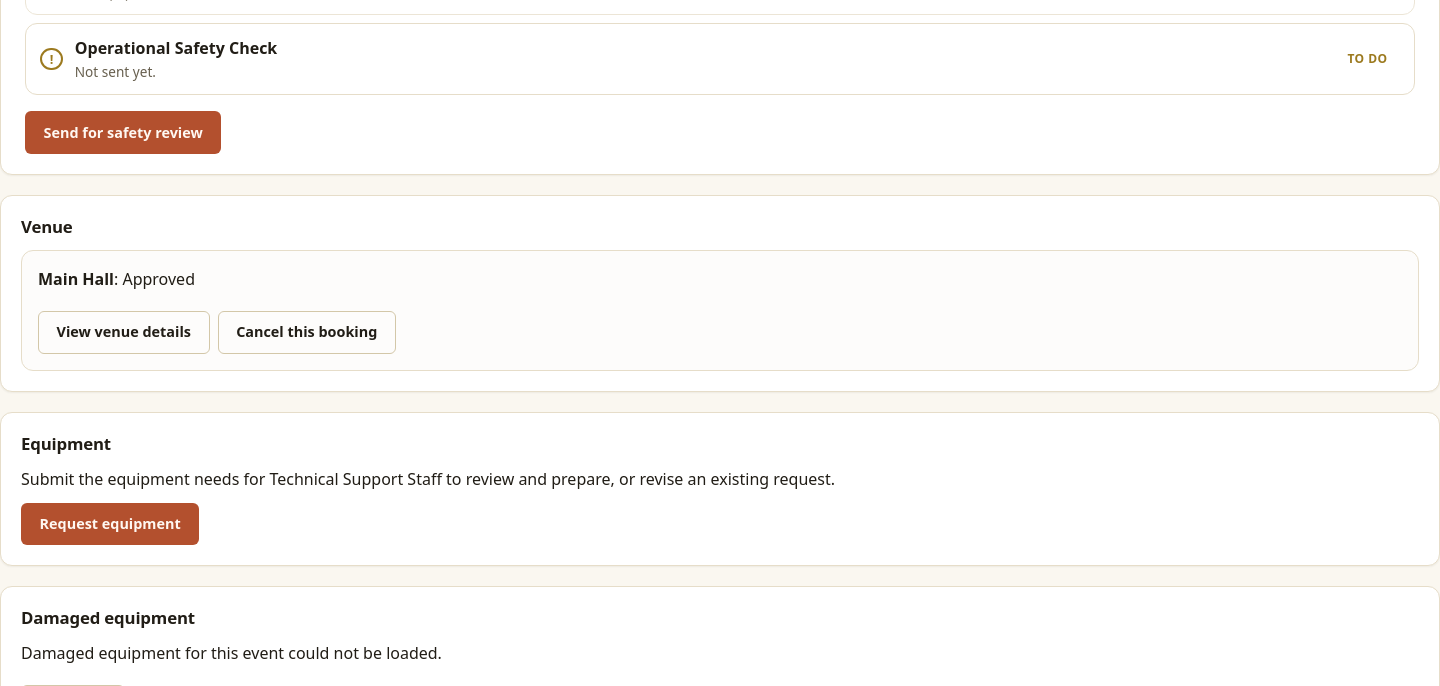
Scenario: EC08 readiness, send for safety review, withdraw and confirm › refreshes lifecycle readiness after cancelling an approved venue booking
The width and height of the screenshot is (1440, 686).
(page scrolled)
Expected: the button "Send for safety review" is shown, [25,111,221,154]
Click the button "Cancel this booking" at (307, 332), box [218,311,396,354]
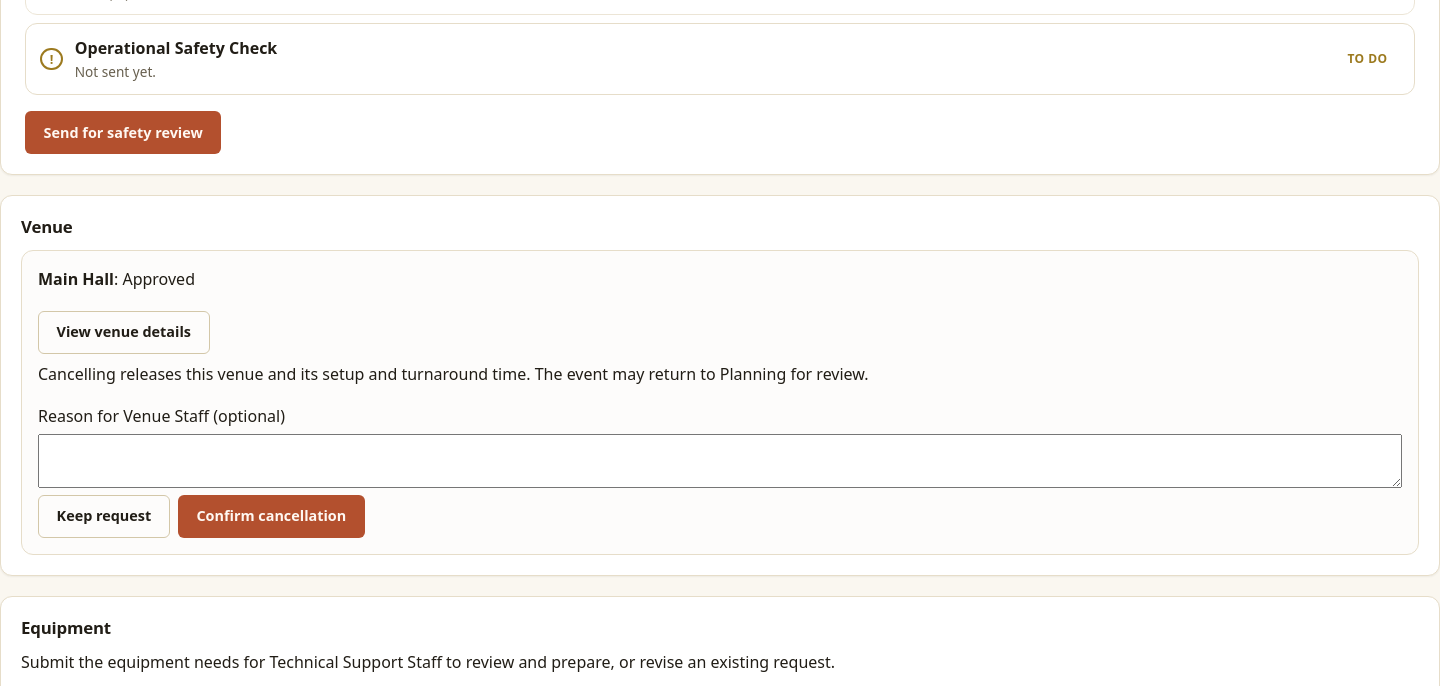
Click the button "Confirm cancellation" at (271, 516), box [178,495,365,538]
(page scrolled)
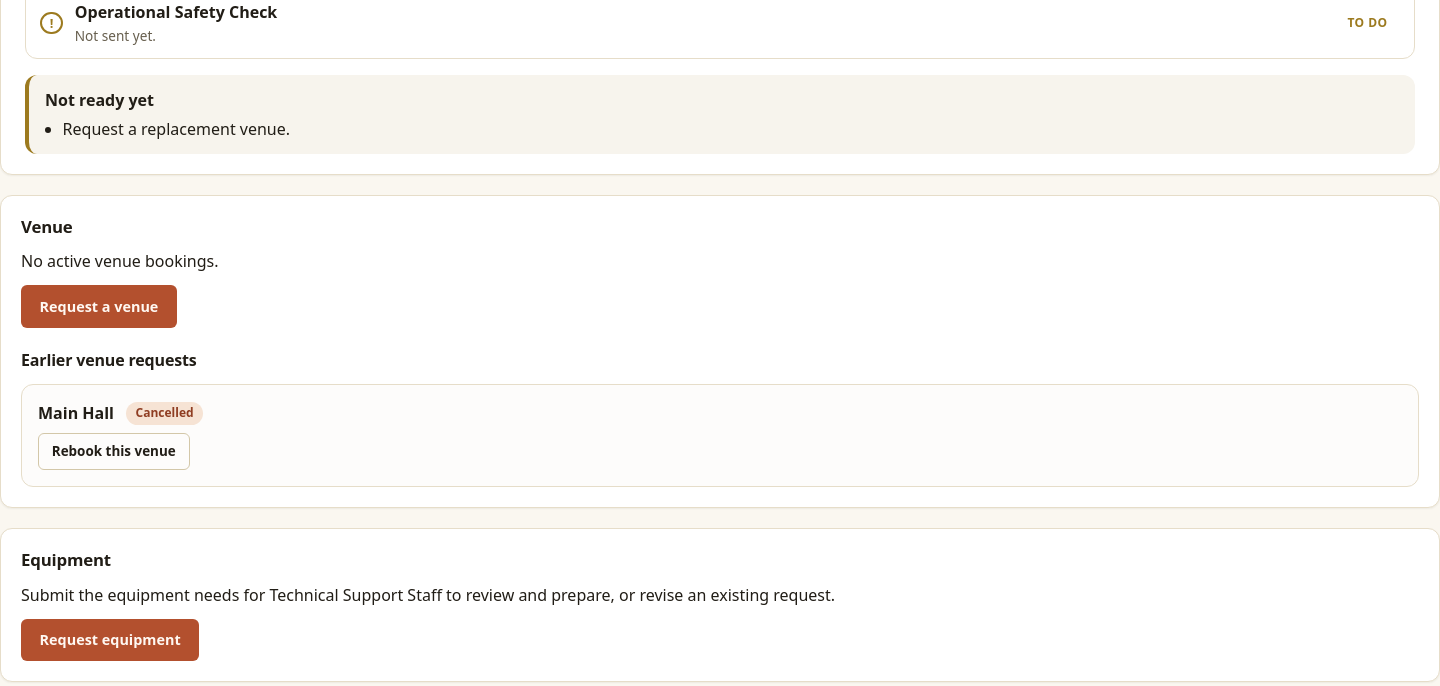
Now the list item "Request a replacement venue." is shown, box [63,118,290,140]
Now the button "Send for safety review" is gone
